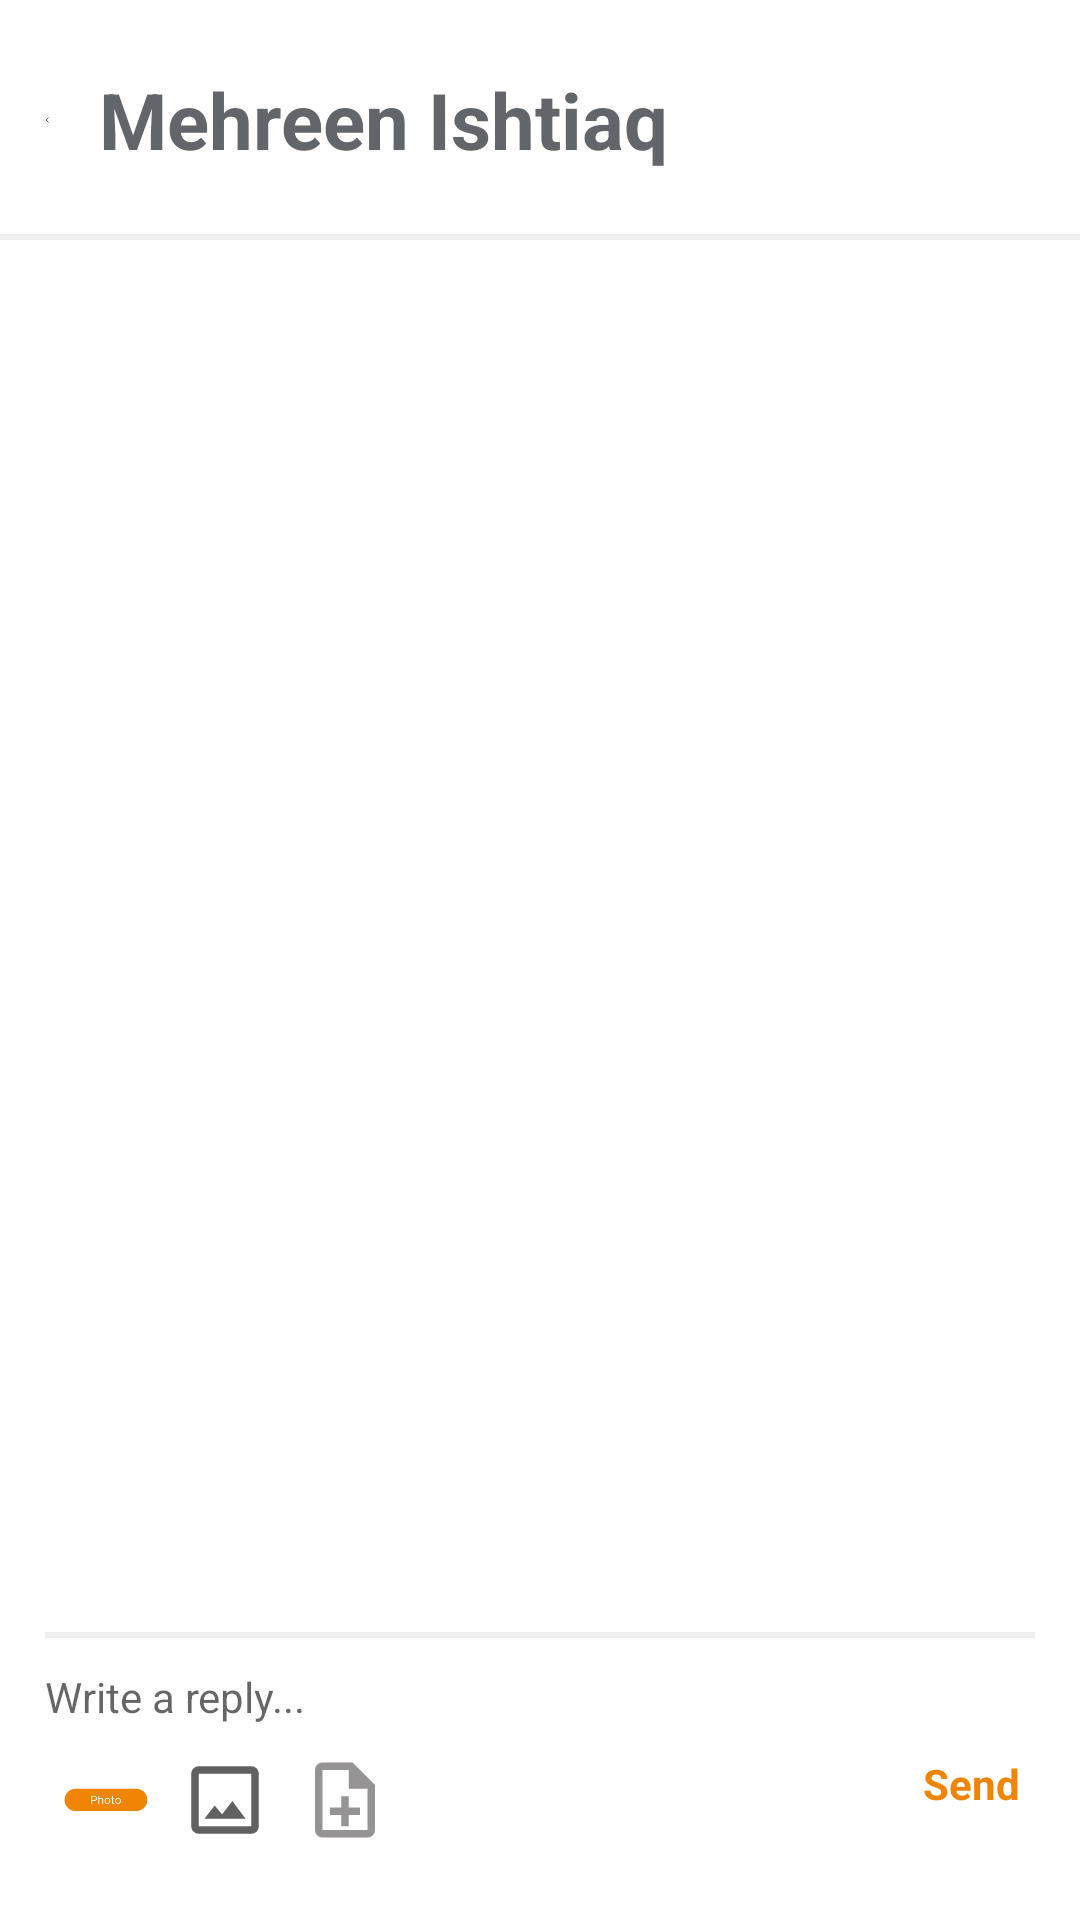

Icon click points for this 1080px×1920px phone screenshot, format (x,y):
file: (345,1800)
galleryy: (225,1800)
